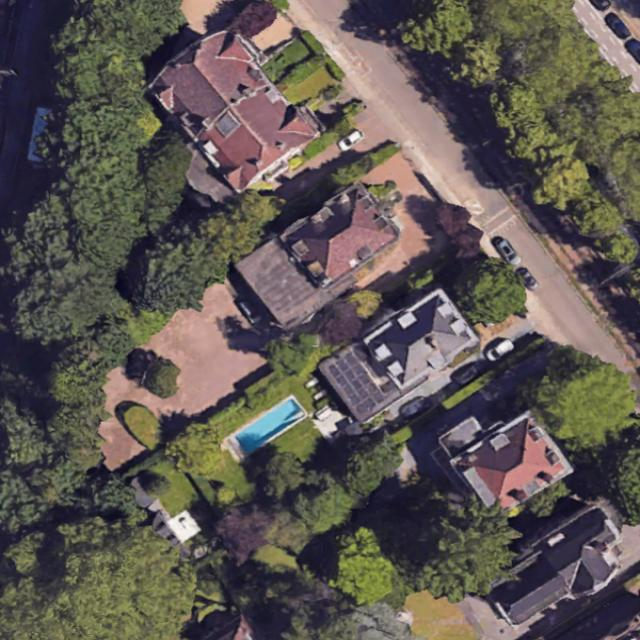maison: (472, 490, 640, 640), (142, 18, 273, 143), (190, 74, 319, 199), (275, 178, 403, 296), (453, 408, 576, 527), (356, 279, 480, 396)
